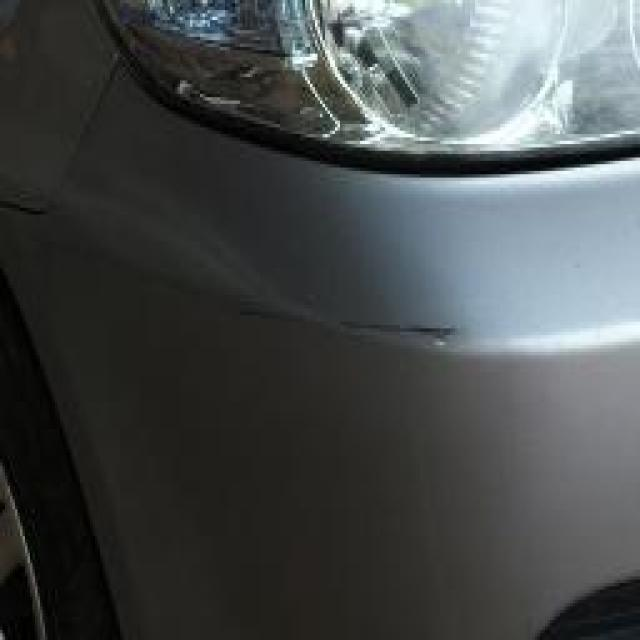Bumper: (98, 241, 460, 382)
